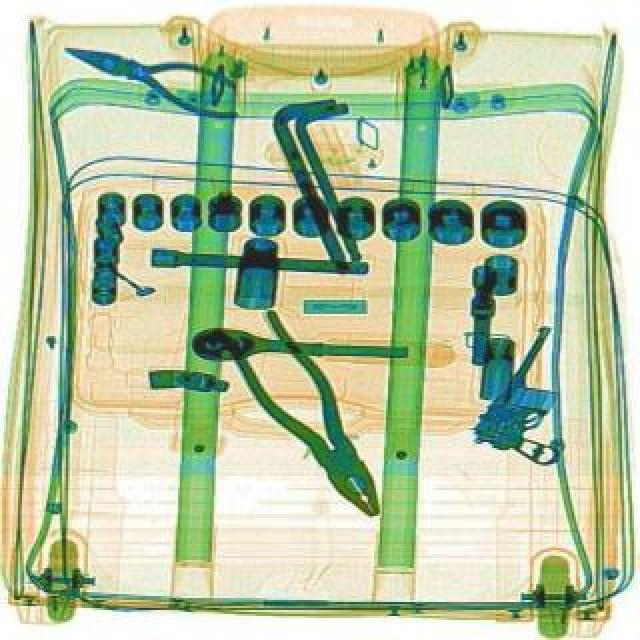gun: (464, 324, 618, 480)
wrench: (212, 300, 402, 530), (56, 26, 250, 126)
